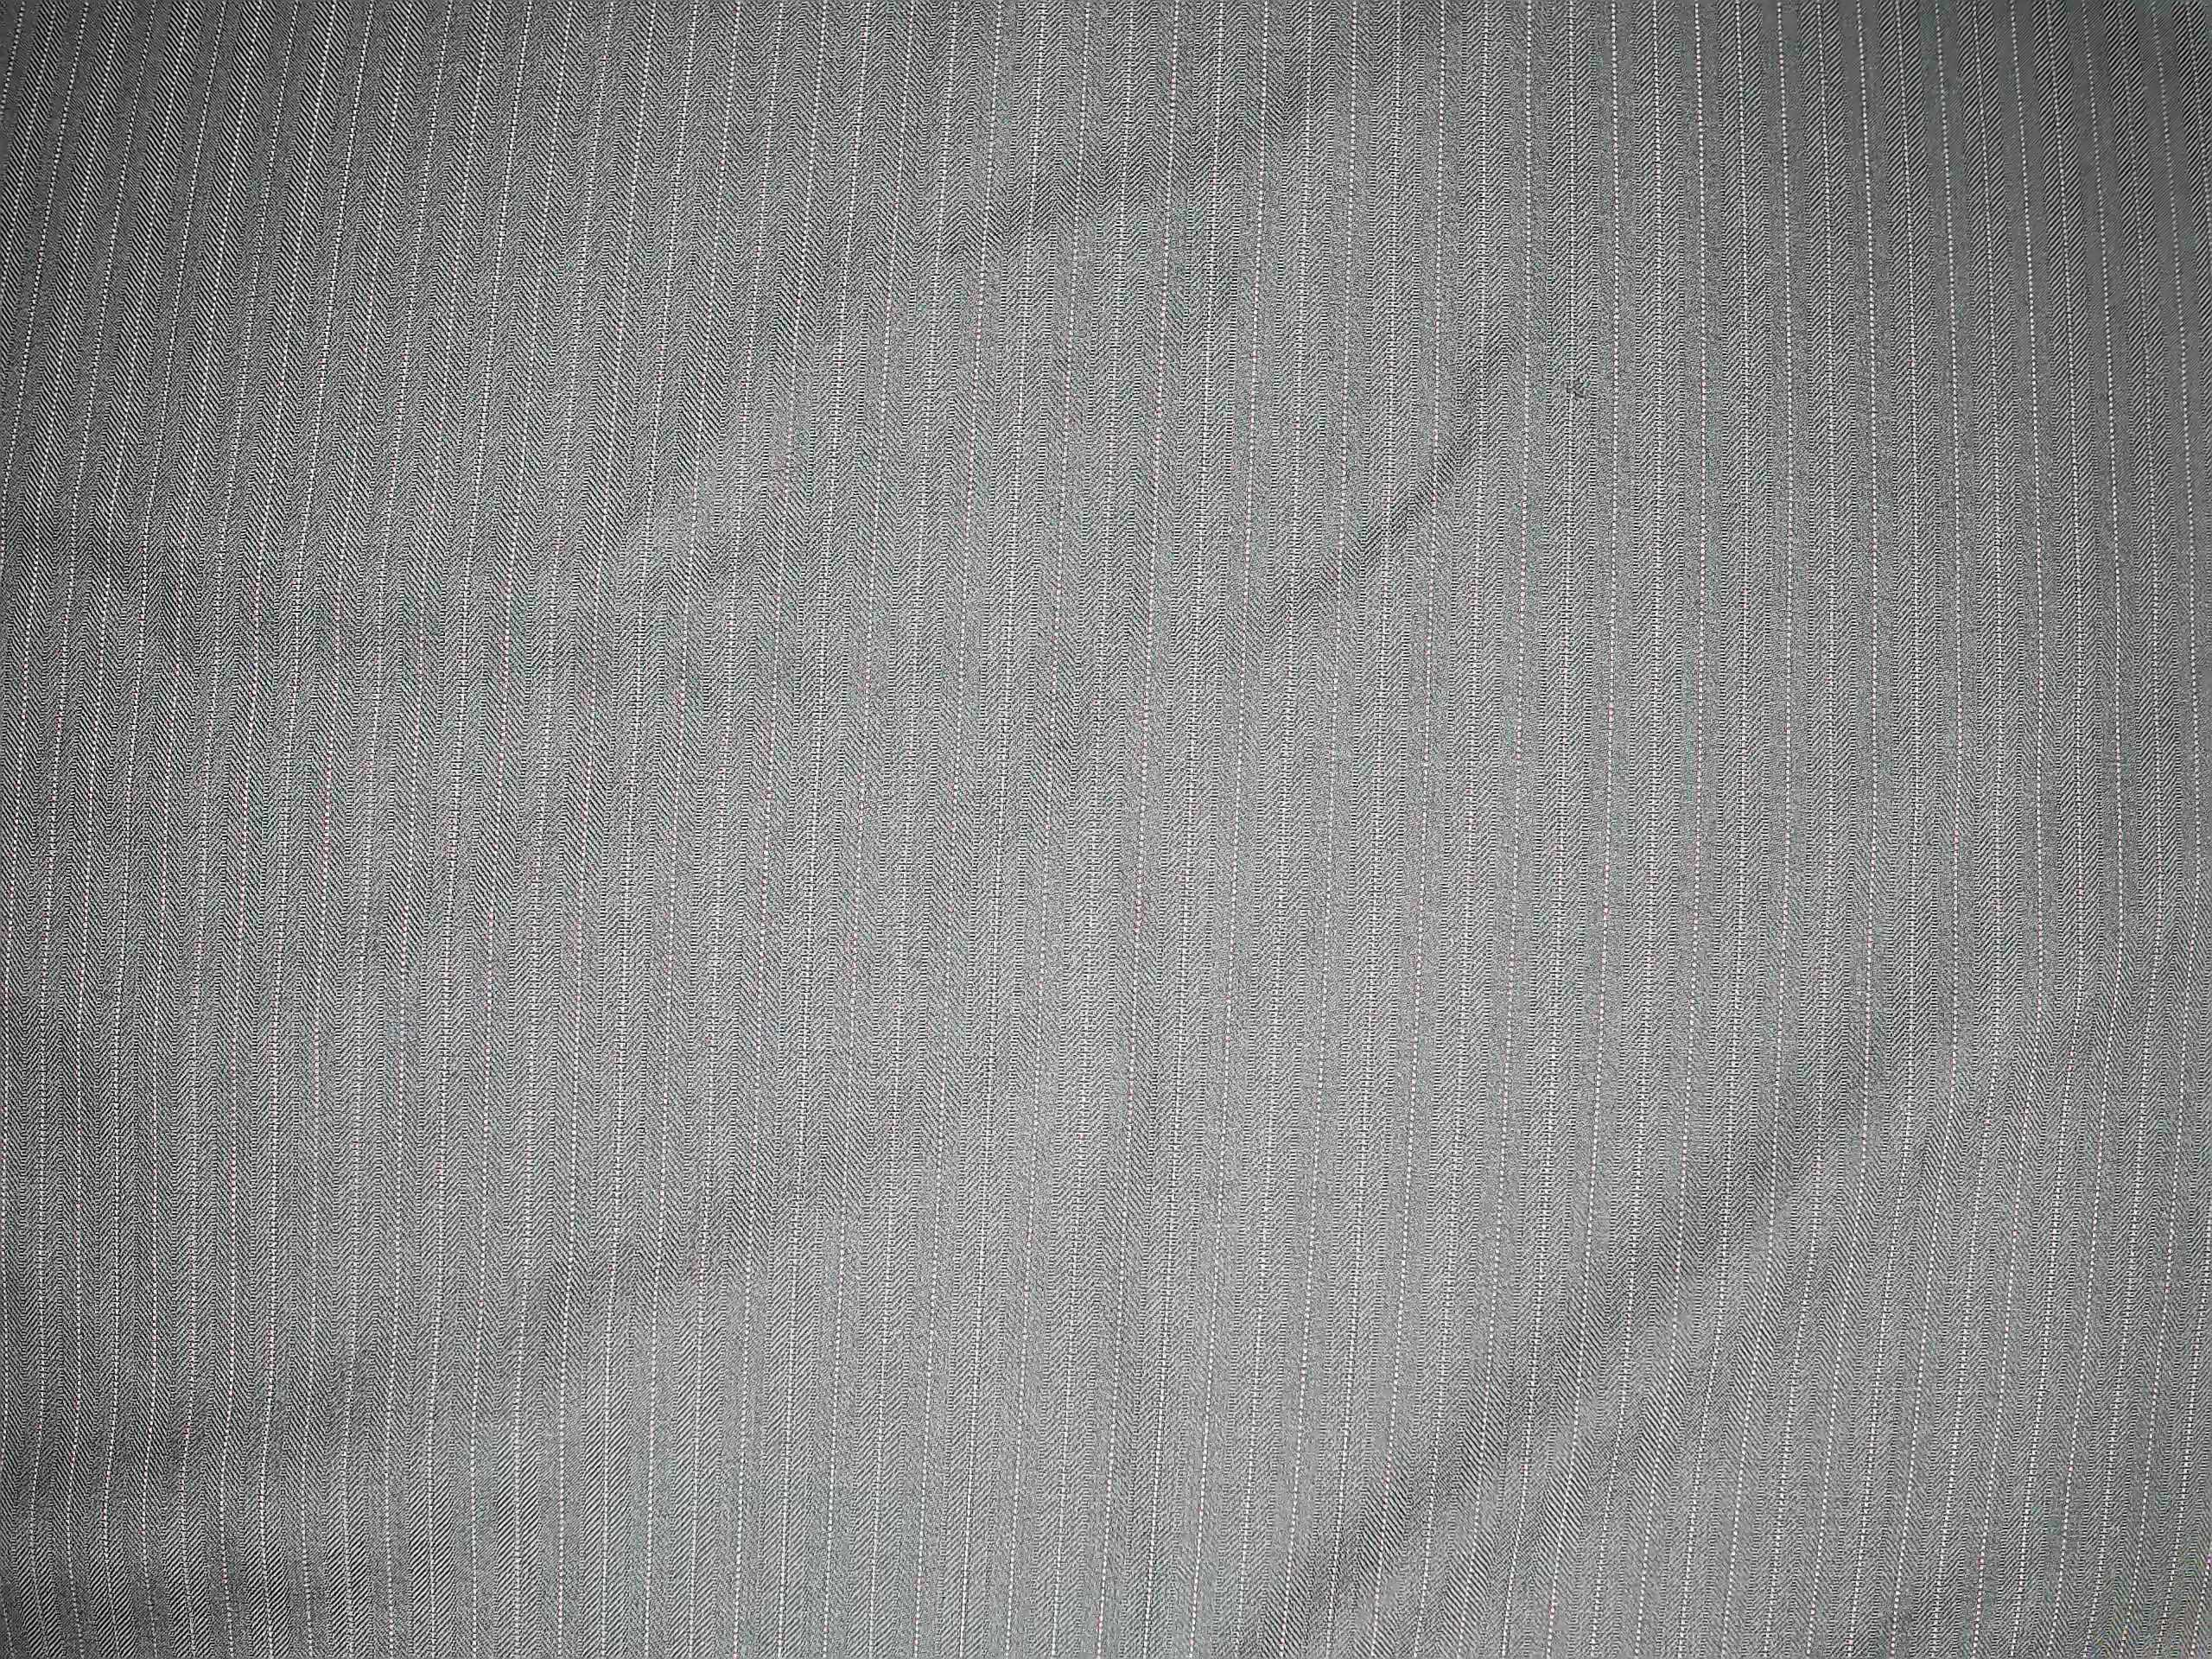rubbing-hole: (1545, 354, 1609, 418)
